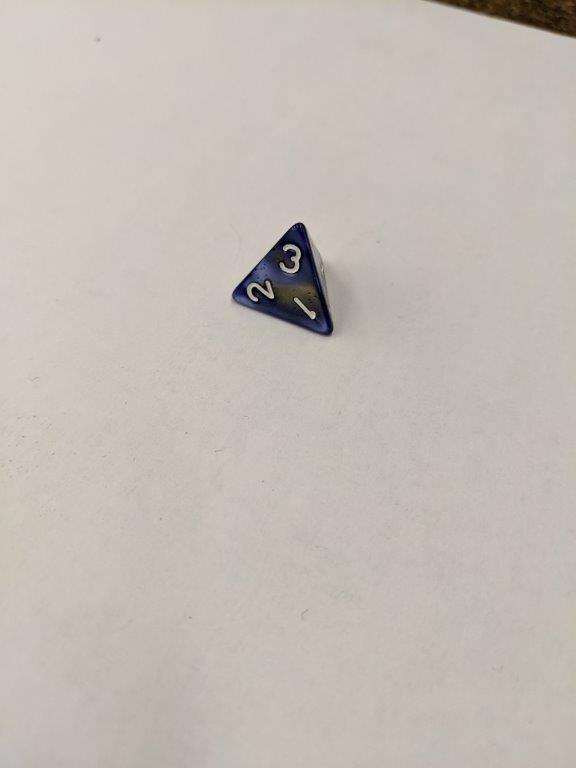d4-3: (226, 218, 339, 342)
